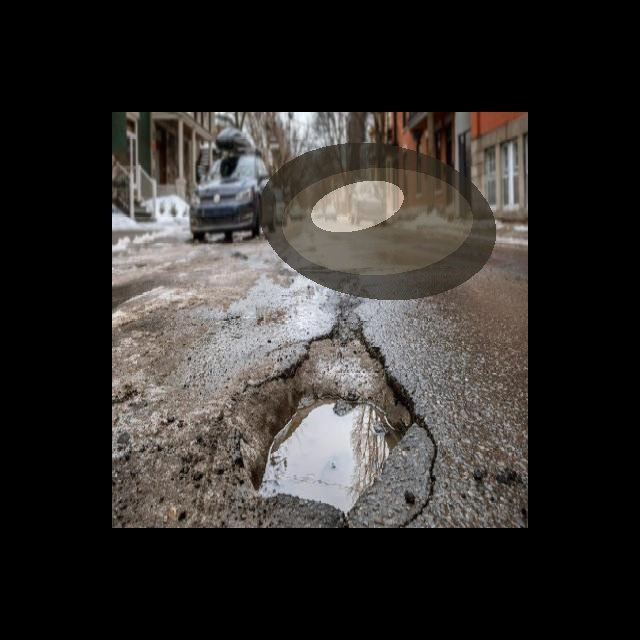waterlogging: (248, 134, 506, 308)
